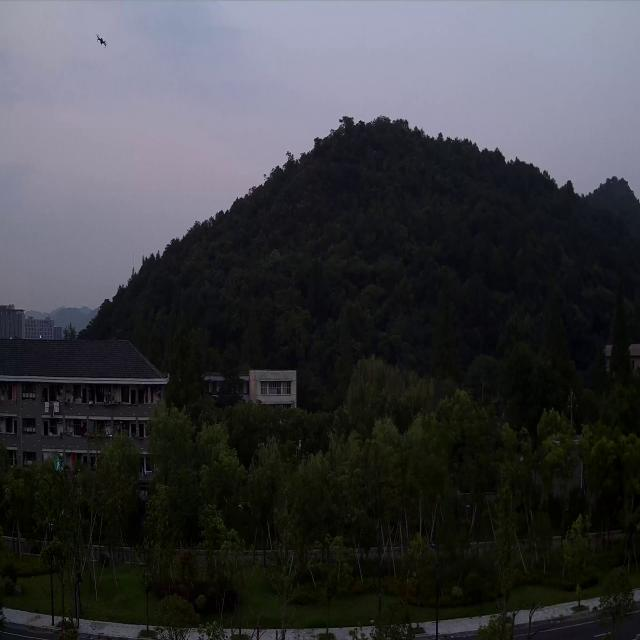UAV: (96, 33, 107, 49)
